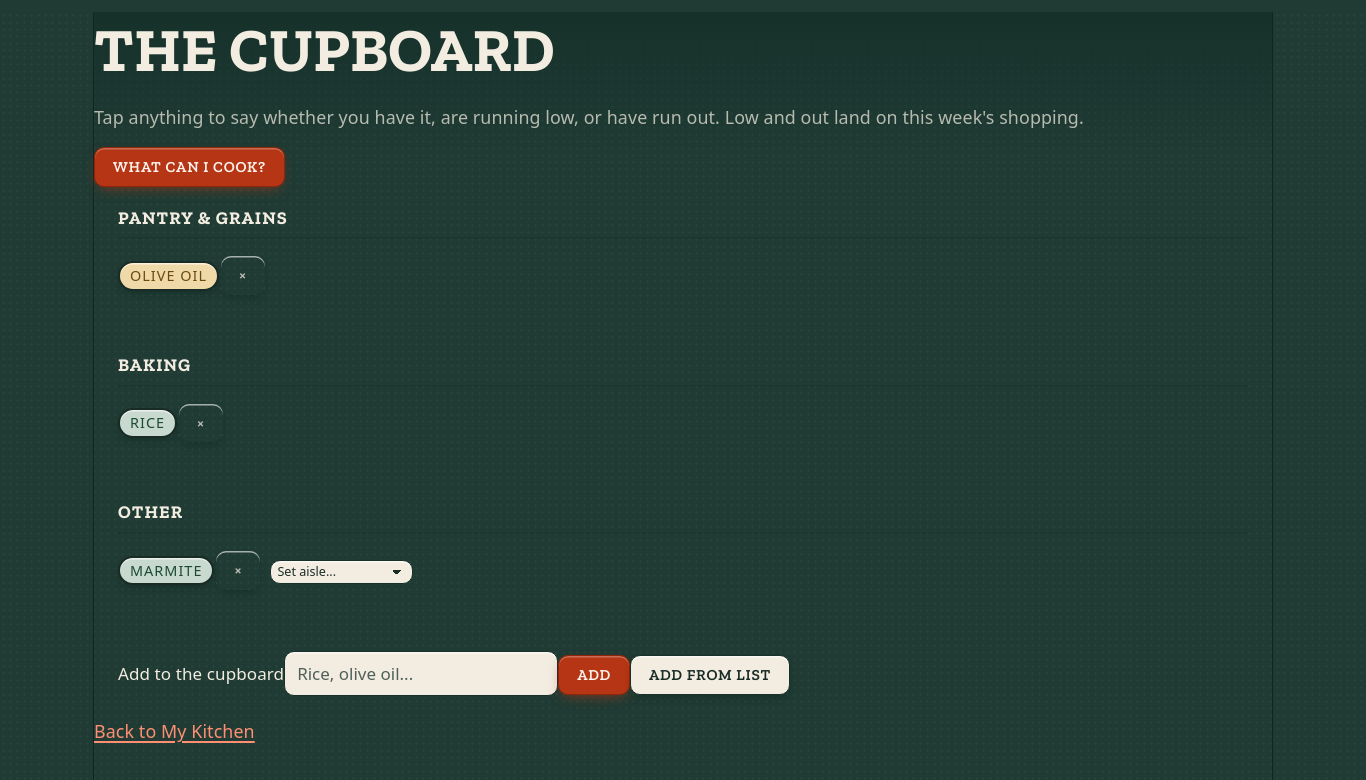
shows what you can cook, and what is missing
Click the button "What can I cook?": point(189, 167) [94,147,285,187]
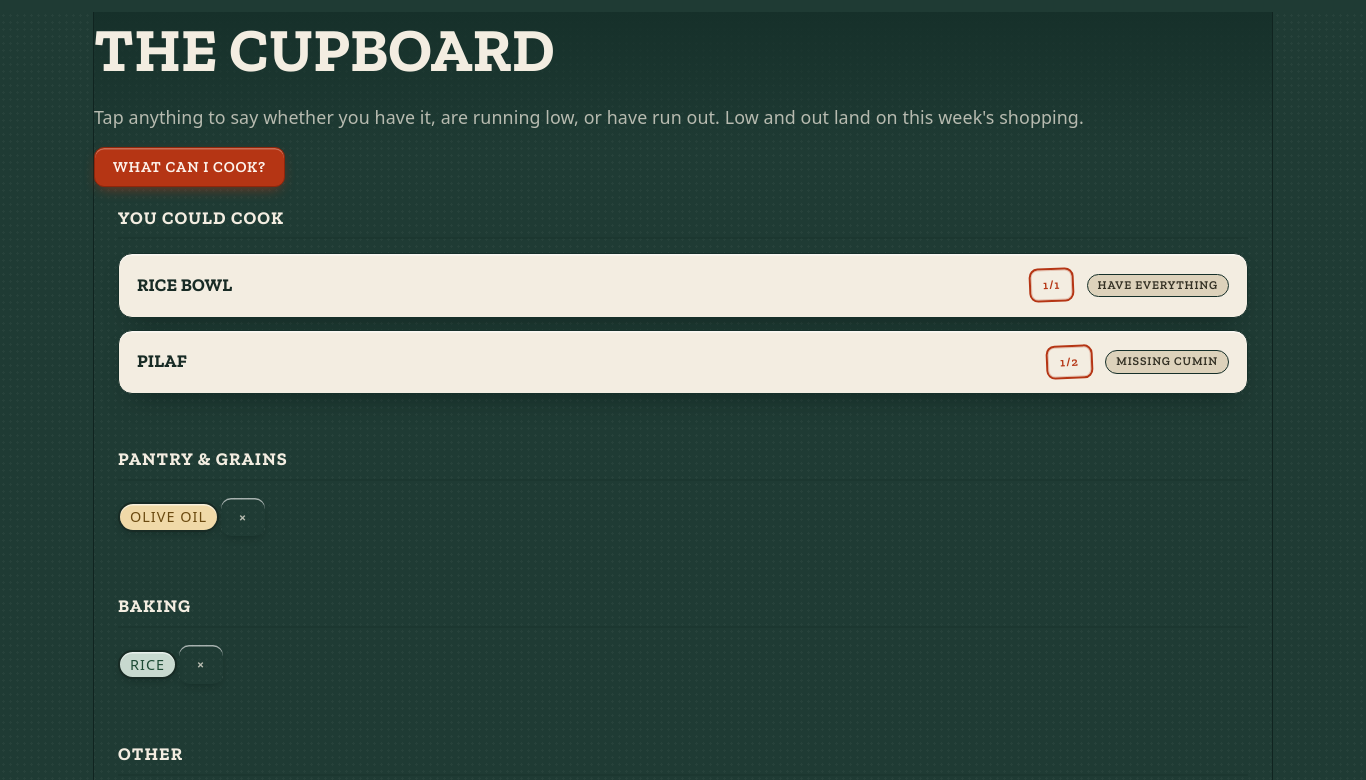
Result: the link "Rice bowl" is shown at [137,272,232,299]
Result: the text "Missing Cumin" is shown at [1105,350,1229,374]
